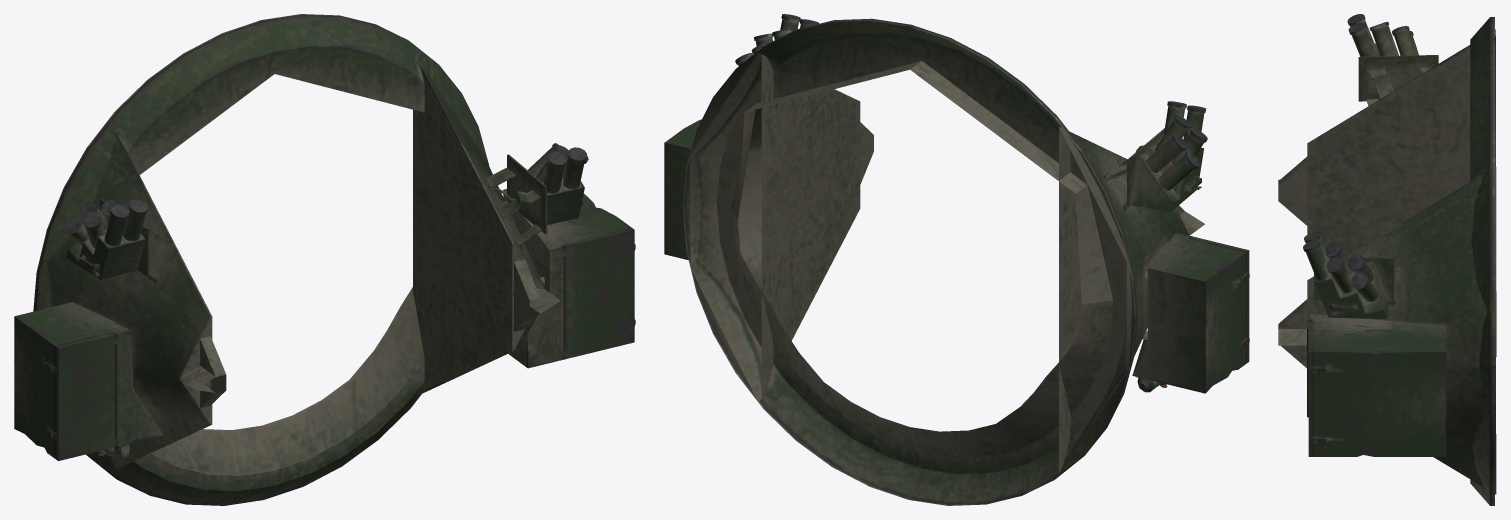
Rendered from Turret_01.glb.
The picture shows the model from 3 angles, left to right: view 1: azimuth 30°, elevation 25°; view 2: azimuth 150°, elevation 25°; view 3: azimuth 270°, elevation 25°; orthographic projection. The views are drawn at different scales.
Parts seen in each view (by area): view 1: set_0_group_0; view 2: set_0_group_0; view 3: set_0_group_0.
Part boxes in pixels (x1=…): set_0_group_0: x1=14, y1=14, x2=635, y2=505; set_0_group_0: x1=664, y1=14, x2=1249, y2=505; set_0_group_0: x1=1278, y1=14, x2=1496, y2=505.
Bounding box in the file's own units: 2.59 × 2.14 × 0.9535.
Materials: 1 (1 with a texture image).
